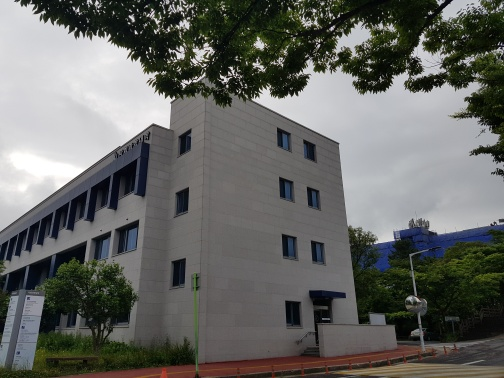College of Social Sciences: (12, 93, 394, 354), (21, 137, 149, 252), (277, 278, 388, 364)
